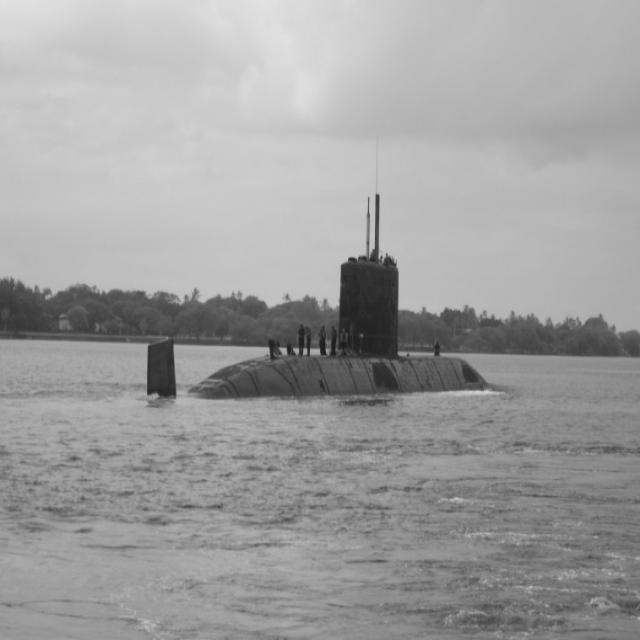submarine: (148, 194, 492, 402)
